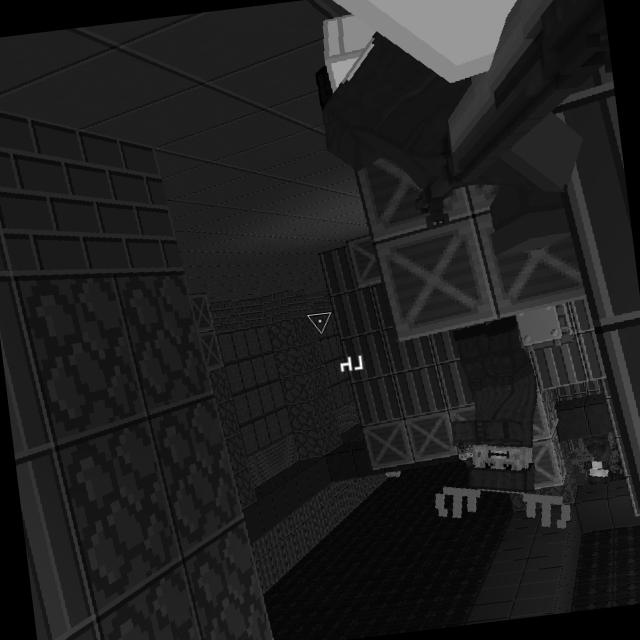enemy: (408, 309, 574, 548), (578, 433, 616, 488)
